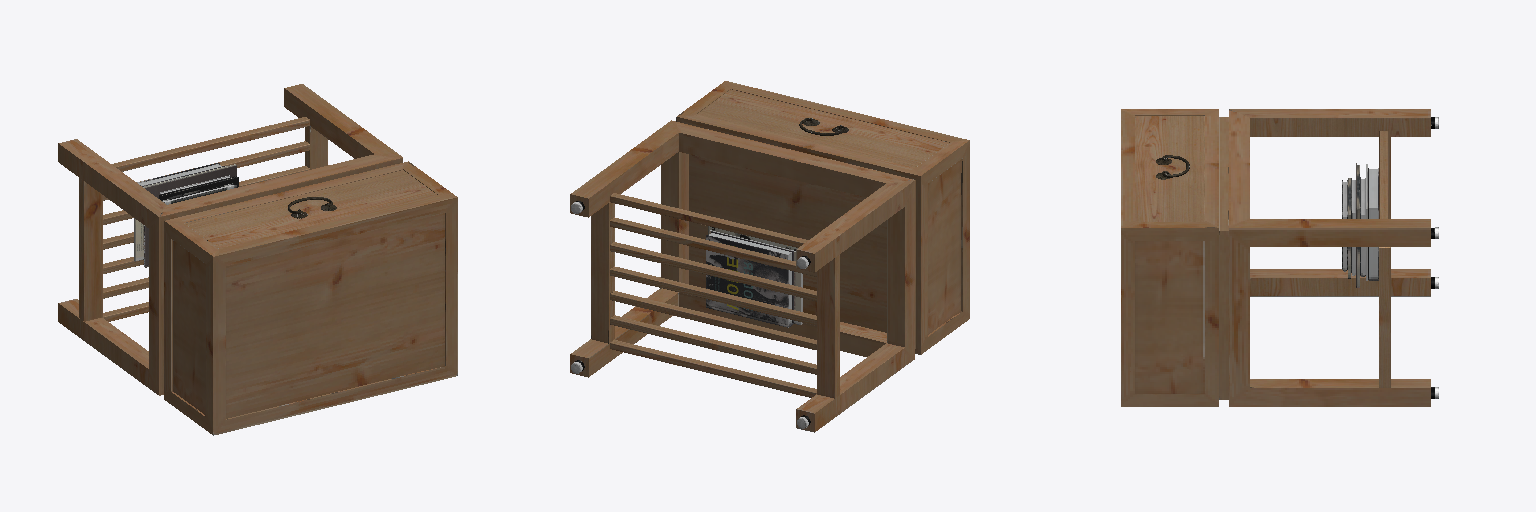
3 renders of one model, left to right at view 1: azimuth 30°, elevation 25°; view 2: azimuth 150°, elevation 25°; view 3: azimuth 270°, elevation 25°, orthographic.
Size of the model in its own units: 0.5 by 0.3586 by 0.5646.
Materials: 1 (1 with a texture image).